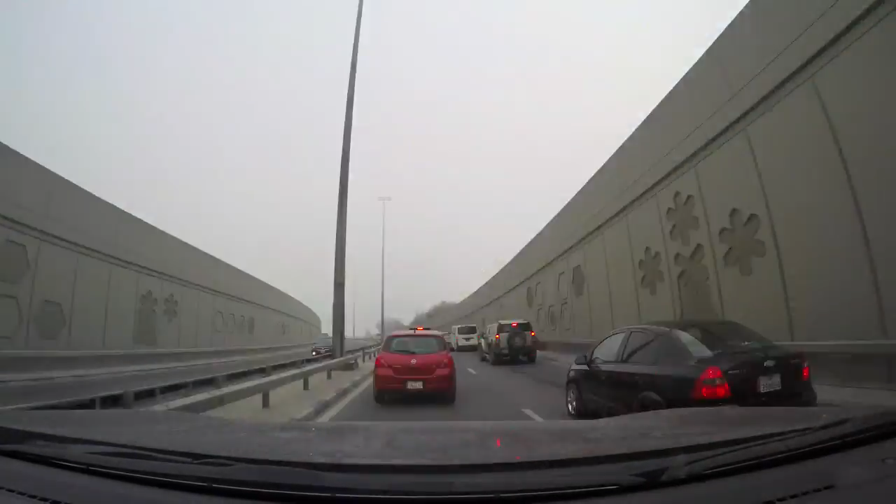car: (564, 318, 820, 440), (371, 325, 458, 406), (478, 319, 540, 364), (449, 324, 481, 352), (310, 334, 340, 357)
